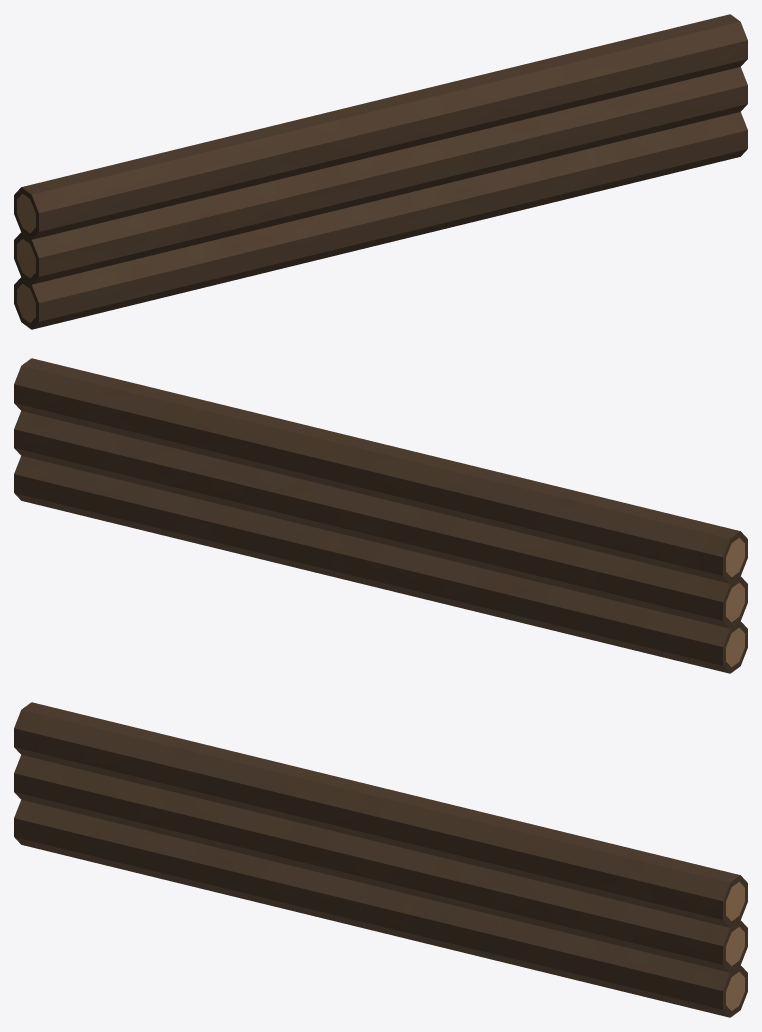
File: cabin_Wall_Half.obj
3 renders of one model, top to bottom at view 1: azimuth 30°, elevation 25°; view 2: azimuth 150°, elevation 25°; view 3: azimuth 330°, elevation 25°, orthographic.
Parts seen in each view (by area): view 1: cabin_Wall_Half; view 2: cabin_Wall_Half; view 3: cabin_Wall_Half.
Boxes of the visible parts, x1,y1,x2,y2 form: cabin_Wall_Half: (14,14,747,329); cabin_Wall_Half: (14,358,747,673); cabin_Wall_Half: (14,702,747,1017).
Bounding box in the file's own units: 8.91 × 1.62 × 0.5428.
